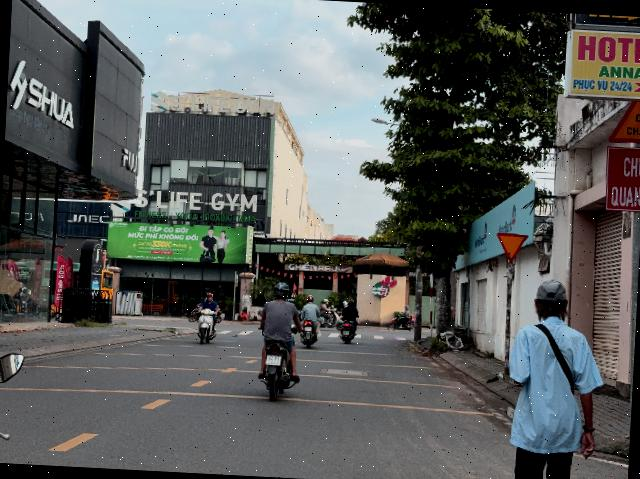giao-nhau-voi-duong-uu-tien: (495, 232, 530, 262)
